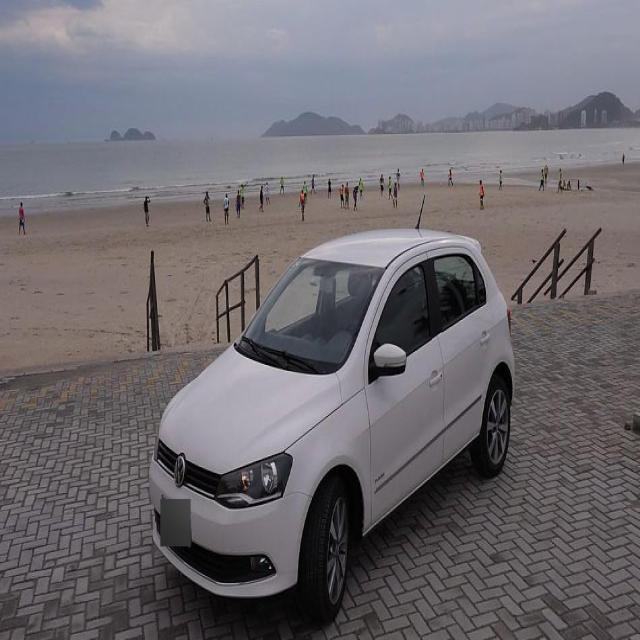door: (425, 250, 496, 443)
front_bumper: (149, 458, 311, 600)
front_glass: (238, 257, 387, 376)
front_left_side_door: (362, 244, 446, 528)
front_left_side_light: (214, 449, 294, 511)
front_left_side_mirror: (373, 340, 408, 379)
wheel: (296, 480, 349, 622), (474, 378, 511, 475)
